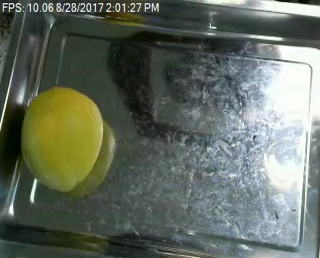Mango: (17, 86, 102, 191)
